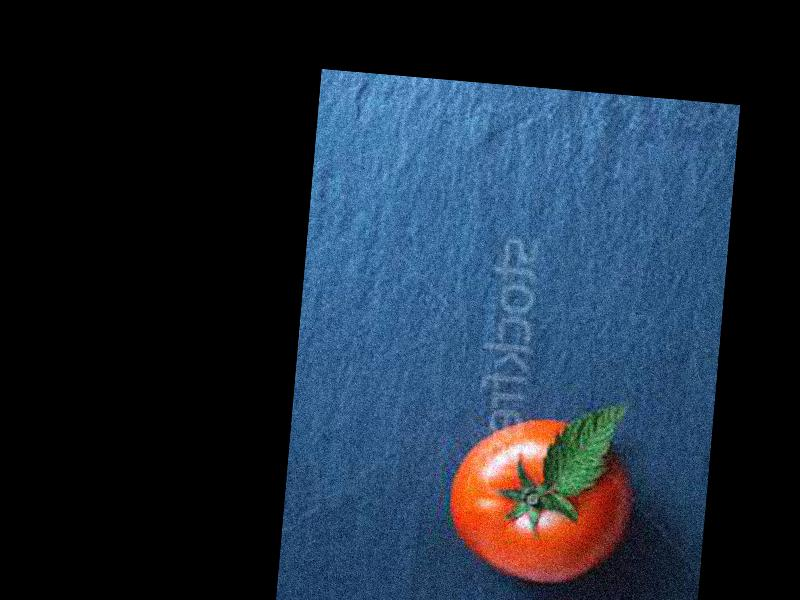Tomato: (444, 410, 634, 587)
